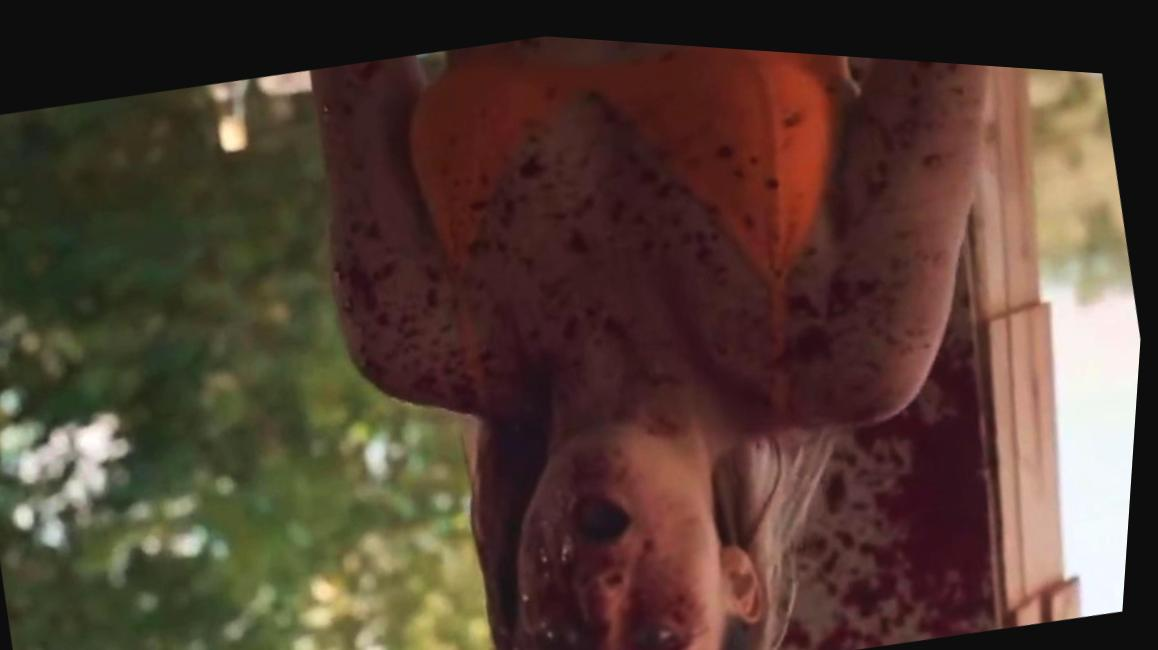Fire: (305, 29, 1015, 650)
